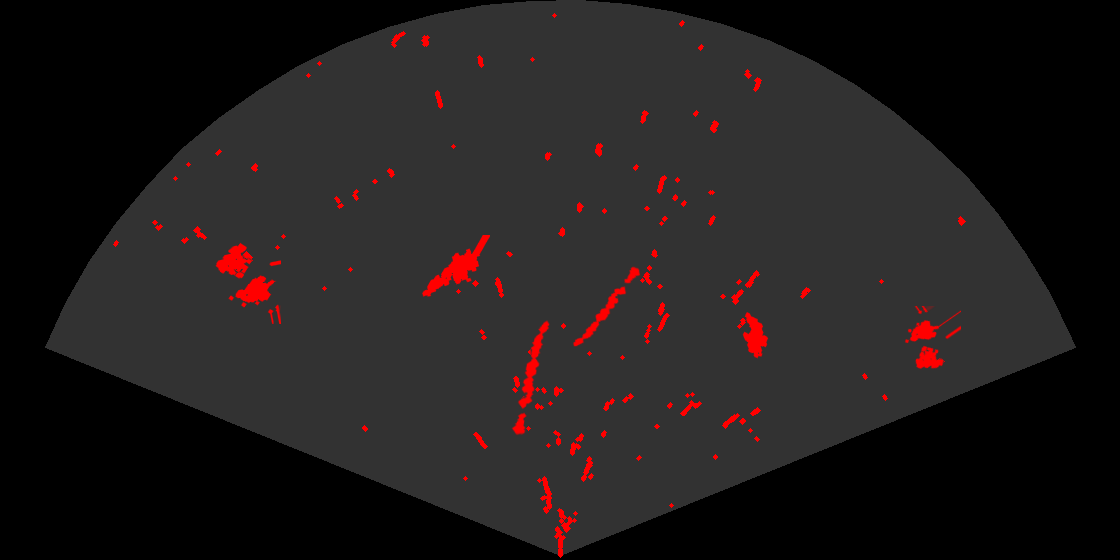AUV: (741, 311, 770, 360)
cage: (214, 241, 281, 324), (903, 306, 961, 371)
chain: (572, 265, 642, 348), (510, 319, 551, 437)
frogman: (421, 235, 490, 298)
